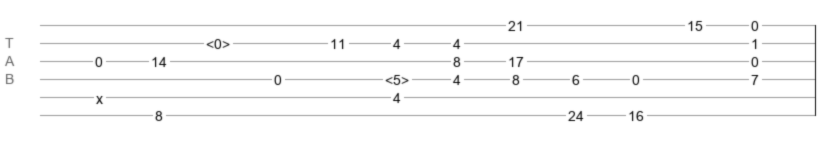0: (95, 54, 103, 64), (274, 72, 282, 82), (632, 72, 640, 82), (751, 54, 759, 64), (751, 18, 759, 28)
1: (751, 36, 759, 46)
11: (330, 36, 346, 46)
14: (151, 54, 167, 64)
15: (687, 18, 703, 28)
16: (628, 108, 644, 118)
17: (508, 54, 524, 64)
21: (508, 18, 524, 28)
24: (568, 108, 584, 118)
4: (393, 90, 401, 100), (393, 36, 401, 46), (453, 36, 461, 46), (453, 72, 461, 82)
6: (572, 72, 580, 82)
7: (751, 72, 759, 82)
8: (155, 108, 163, 118), (453, 54, 461, 64), (512, 72, 520, 82)
harmonic: (206, 36, 230, 46), (385, 72, 409, 82)
x: (96, 91, 103, 99)
